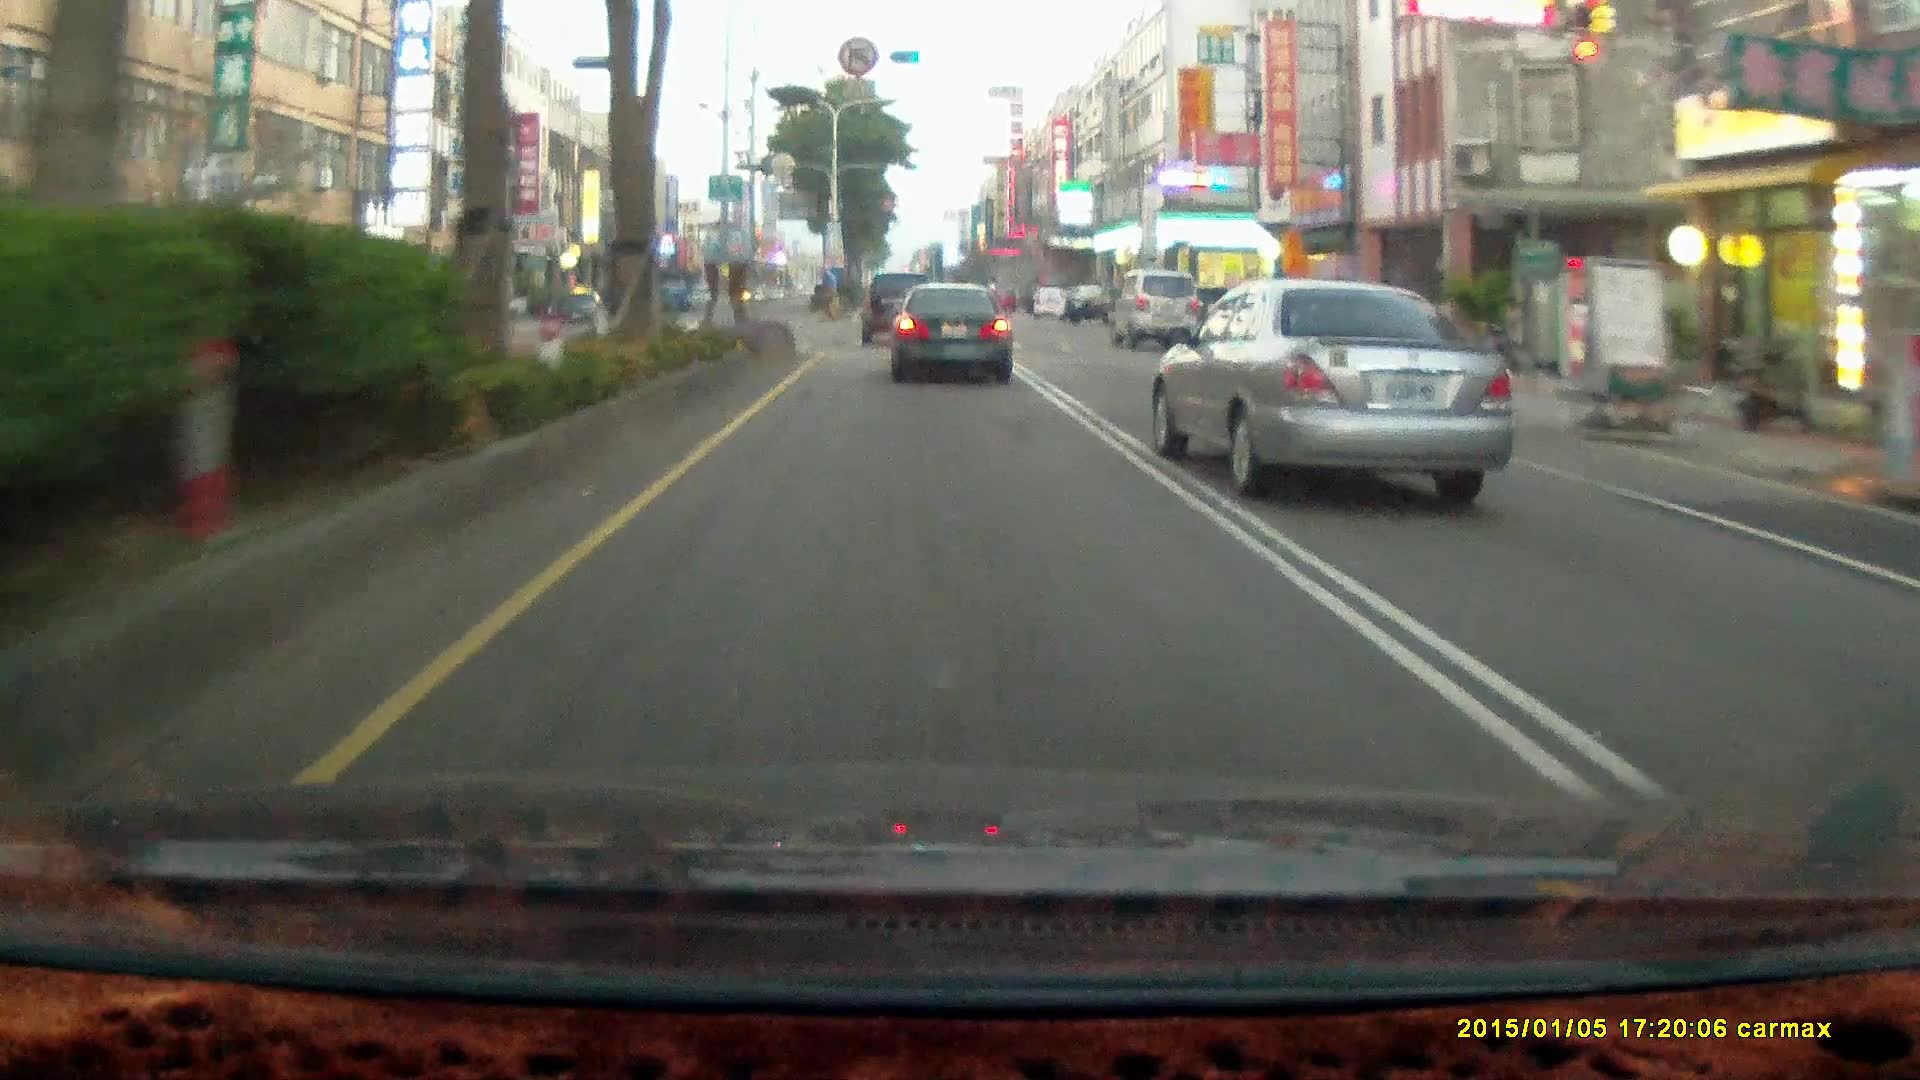vehicle: (1155, 284, 1524, 502), (891, 284, 1017, 388), (890, 282, 1011, 384), (1110, 269, 1201, 355), (1110, 269, 1200, 353), (861, 274, 940, 352), (861, 272, 938, 345), (1065, 284, 1133, 324), (559, 293, 607, 323), (1033, 286, 1069, 318)
